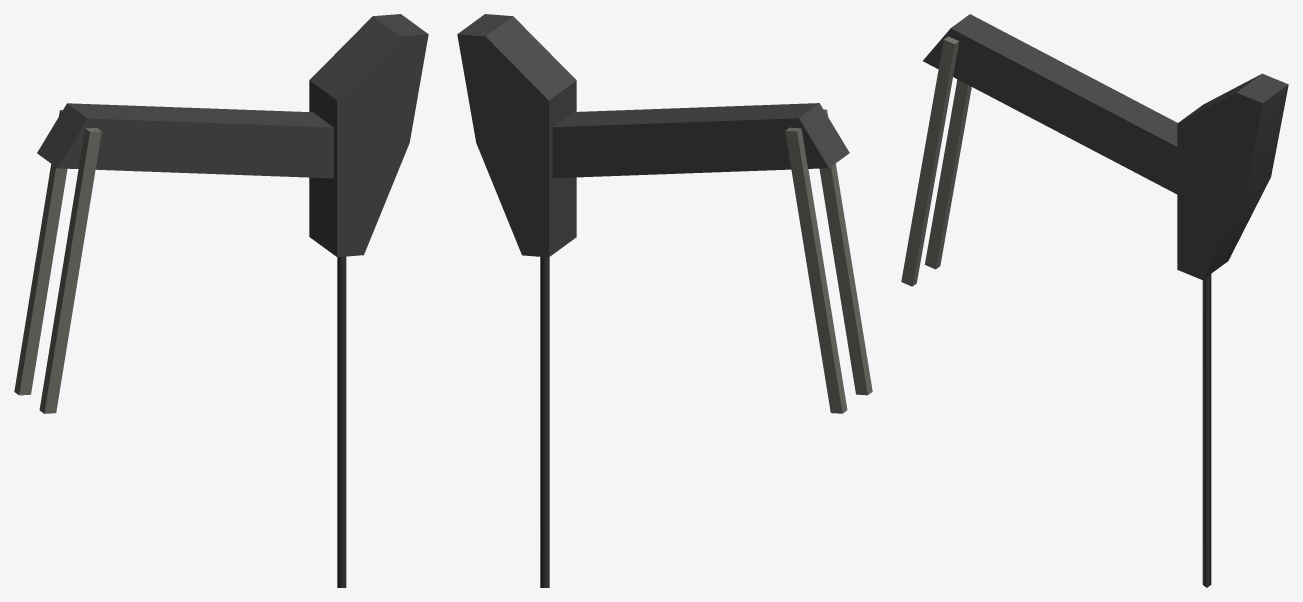
File: pump.fbx
3 views of the same model, side by side, from view 1: azimuth 30°, elevation 25°; view 2: azimuth 150°, elevation 25°; view 3: azimuth 330°, elevation 25° (orthographic). The views are drawn at different scales.
Parts seen in each view (by area): view 1: pump; view 2: pump; view 3: pump.
Part boxes in pixels (bbox=[...]): pump: bbox=[14, 14, 428, 587]; pump: bbox=[457, 14, 872, 587]; pump: bbox=[901, 14, 1288, 587].
Bounding box in the file's own units: 385 × 523 × 51.92.
